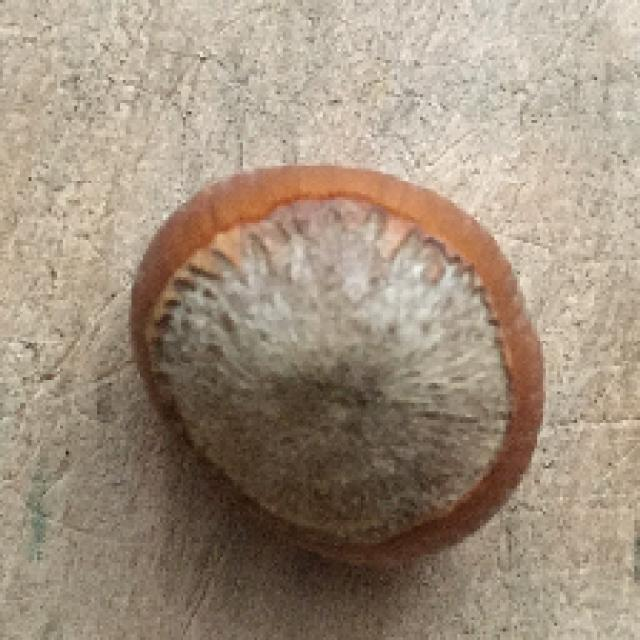qualityHazelnut: (123, 159, 551, 573)
